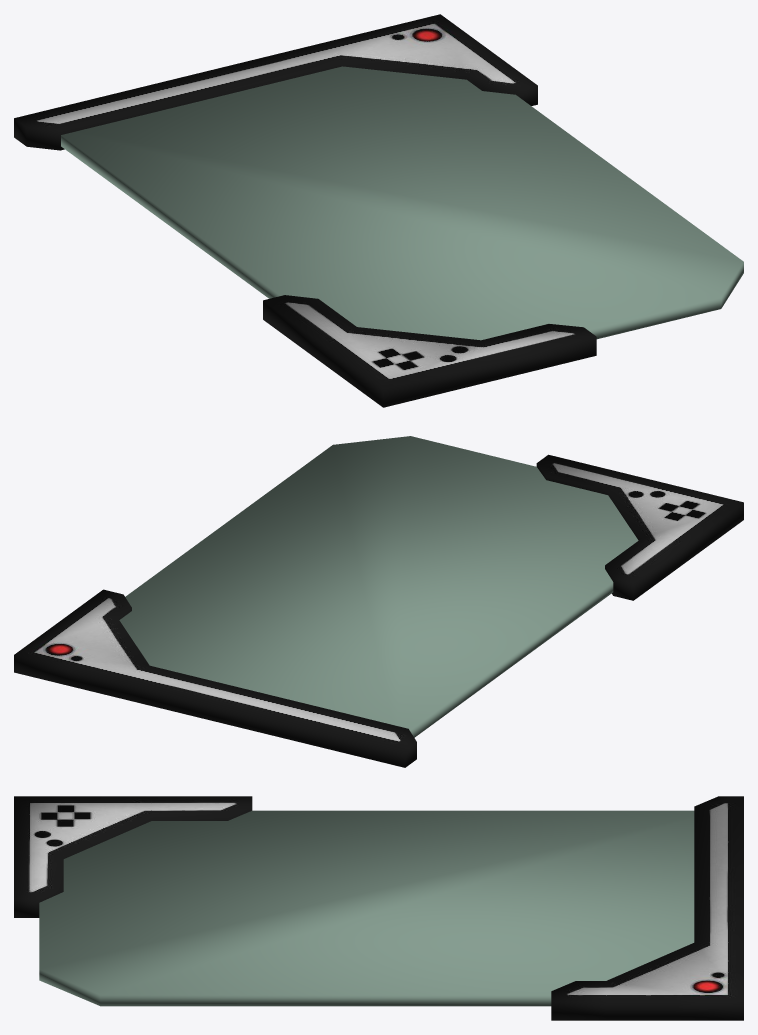
The model's file is item.log.castoff_ledger.glb.
3 views of the same model, one above another, from view 1: azimuth 30°, elevation 25°; view 2: azimuth 150°, elevation 25°; view 3: azimuth 270°, elevation 25° (orthographic). The views are drawn at different scales.
Visible parts, largest first — view 1: Tablet_Low_002, Tablet_Low; view 2: Tablet_Low_002, Tablet_Low; view 3: Tablet_Low_002, Tablet_Low.
Boxes of the visible parts, bbox=[...] form: Tablet_Low_002: bbox=[61, 66, 743, 340]; Tablet_Low: bbox=[14, 14, 596, 407]; Tablet_Low_002: bbox=[119, 436, 638, 737]; Tablet_Low: bbox=[14, 454, 743, 767]; Tablet_Low_002: bbox=[39, 810, 694, 1006]; Tablet_Low: bbox=[14, 796, 743, 1020].
Size of the model in its own units: 0.8 by 0.0343 by 1.2.
3 materials, 3 textured.
